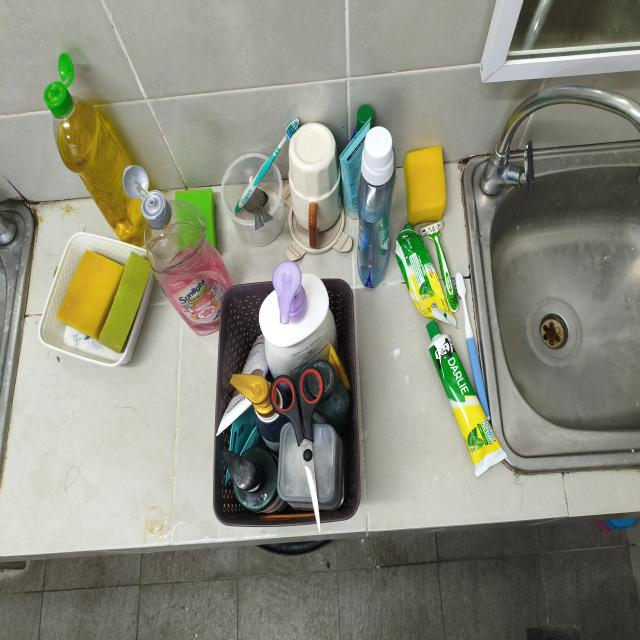scissor: (270, 365, 324, 531)
